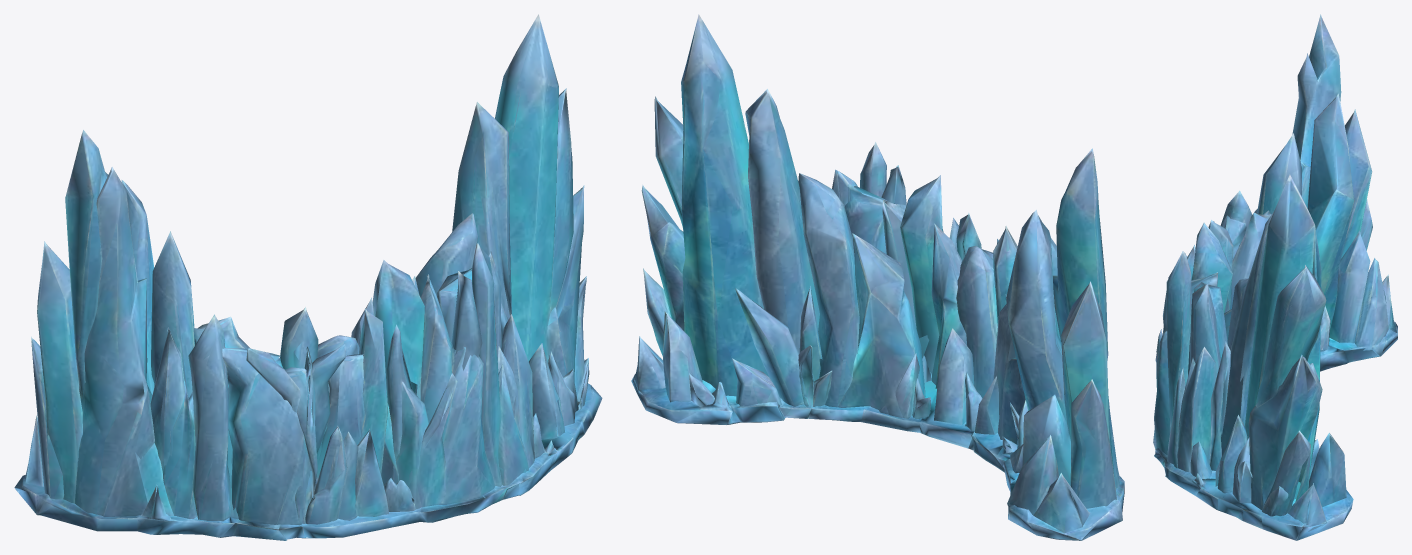
File: ice_wall.glb
The picture shows the model from 3 angles, left to right: view 1: azimuth 30°, elevation 25°; view 2: azimuth 150°, elevation 25°; view 3: azimuth 270°, elevation 25°; orthographic projection. The views are drawn at different scales.
Bounding box in the file's own units: 0.9536 × 0.6792 × 0.4429.
Materials: 1 (1 with a texture image).
